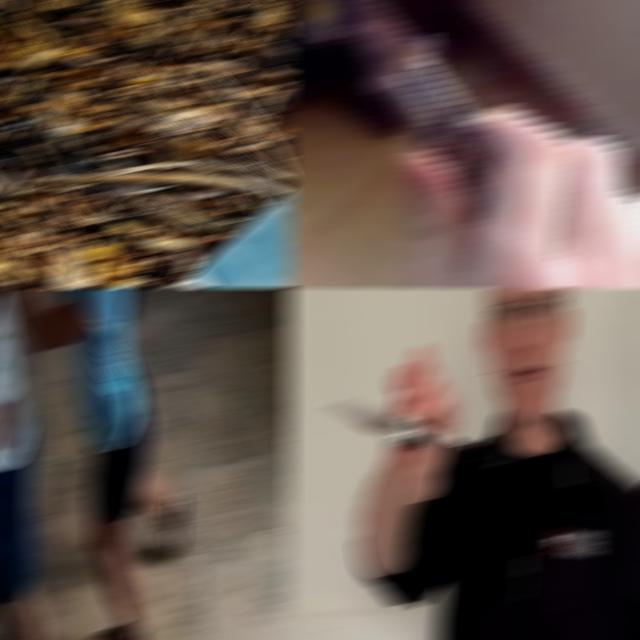Knife_Handle: (284, 0, 640, 288), (323, 343, 461, 503)
